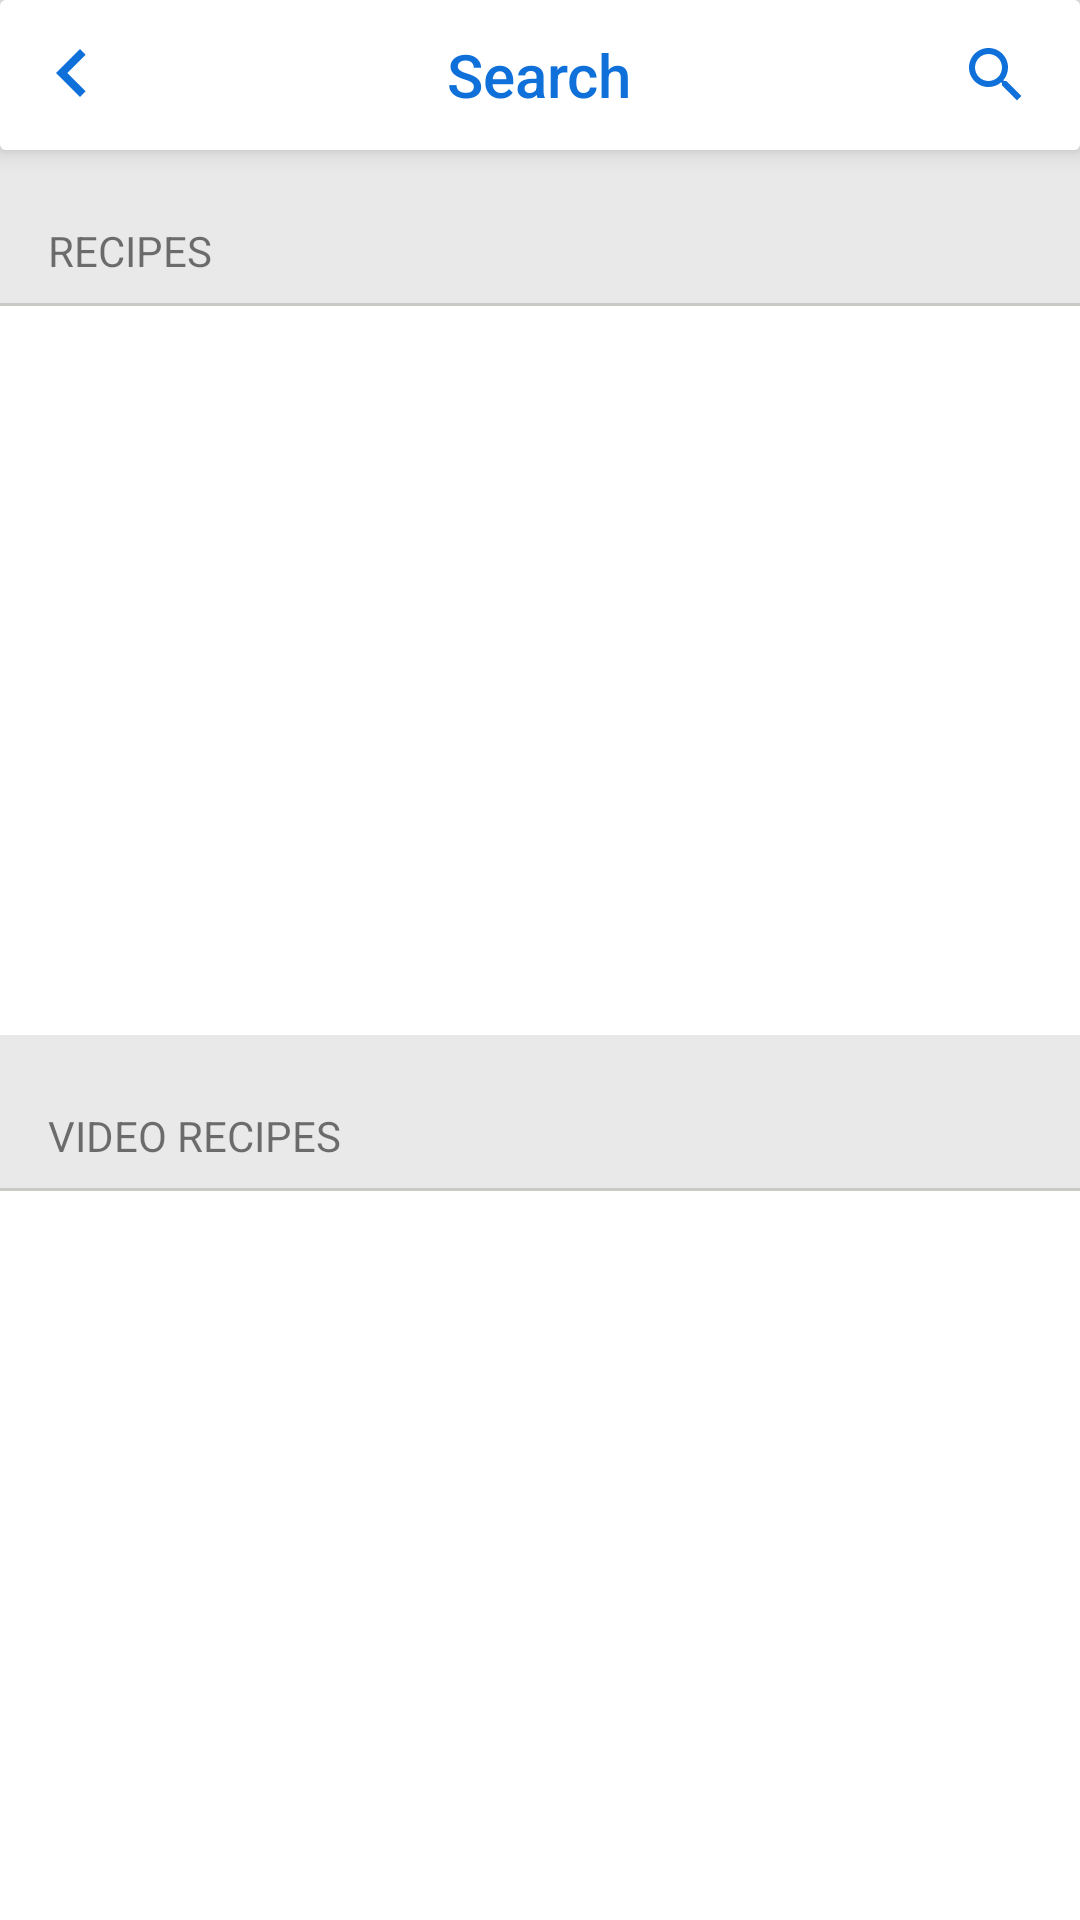

Where icons sit on this 1080x1920 app screen, as {"left": x1, "top": y1, "right": x2, "bottom": y2}:
back: {"left": 56, "top": 49, "right": 86, "bottom": 97}
search gary: {"left": 969, "top": 48, "right": 1021, "bottom": 100}
